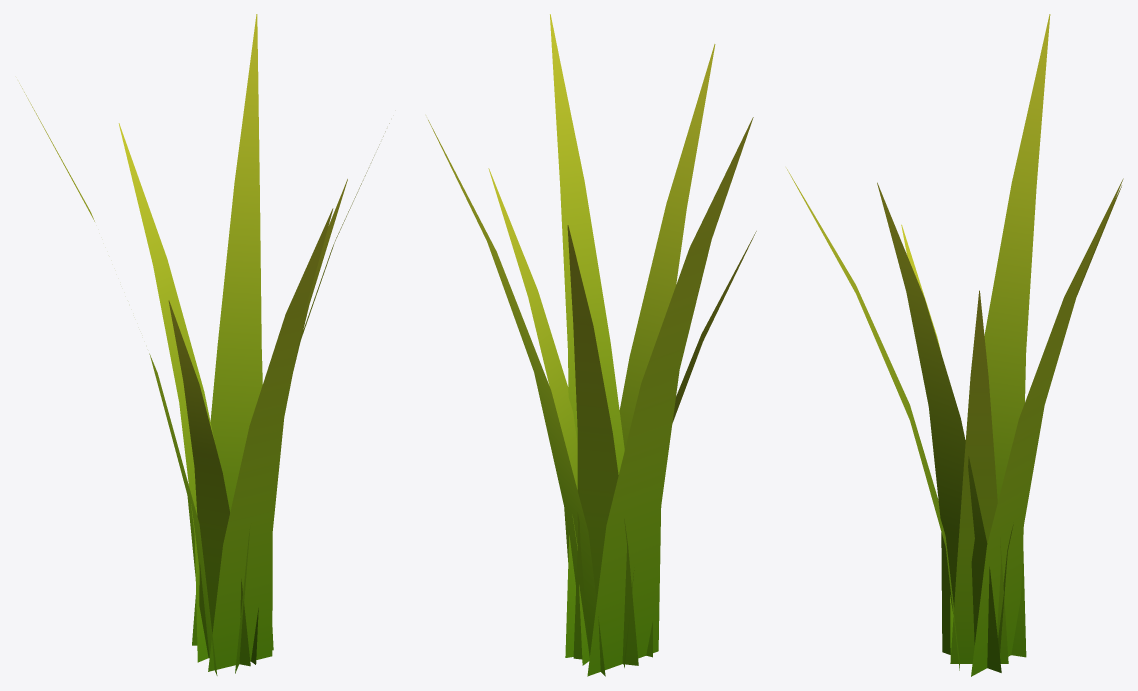
The model's file is BlenderWildGrass.fbx.
3 renders of one model, left to right at view 1: azimuth 30°, elevation 25°; view 2: azimuth 150°, elevation 25°; view 3: azimuth 270°, elevation 25°, orthographic. The views are drawn at different scales.
Parts seen in each view (by area): view 1: BlenderWildGrass; view 2: BlenderWildGrass; view 3: BlenderWildGrass.
Boxes of the visible parts, x1,y1,x2,y2 form: BlenderWildGrass: (19, 14, 389, 675); BlenderWildGrass: (428, 14, 756, 676); BlenderWildGrass: (786, 14, 1123, 676).
Bounding box in the file's own units: 82.84 × 160 × 87.1.
